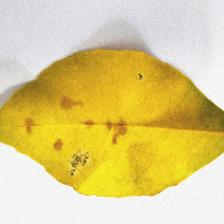black spot: (23, 91, 130, 148)
